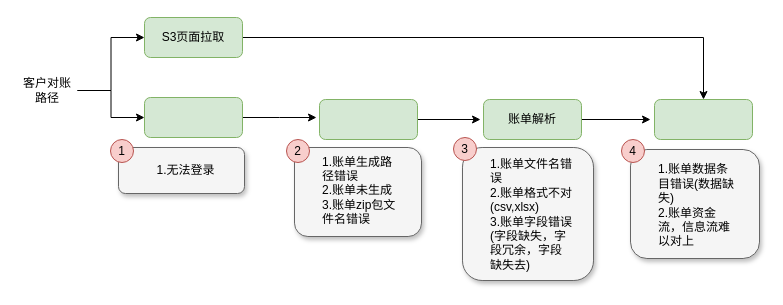
Some shapes in this 783 by 305 pixel diagram are drawn without their labels. The shapes that lost their labels are listed below. From the top down, each one's centre as x and y in pixels, then its label:
At point (193, 117): "登录SFTP".
At point (368, 119): "指定路径获取账单".
At point (703, 119): "对账".
